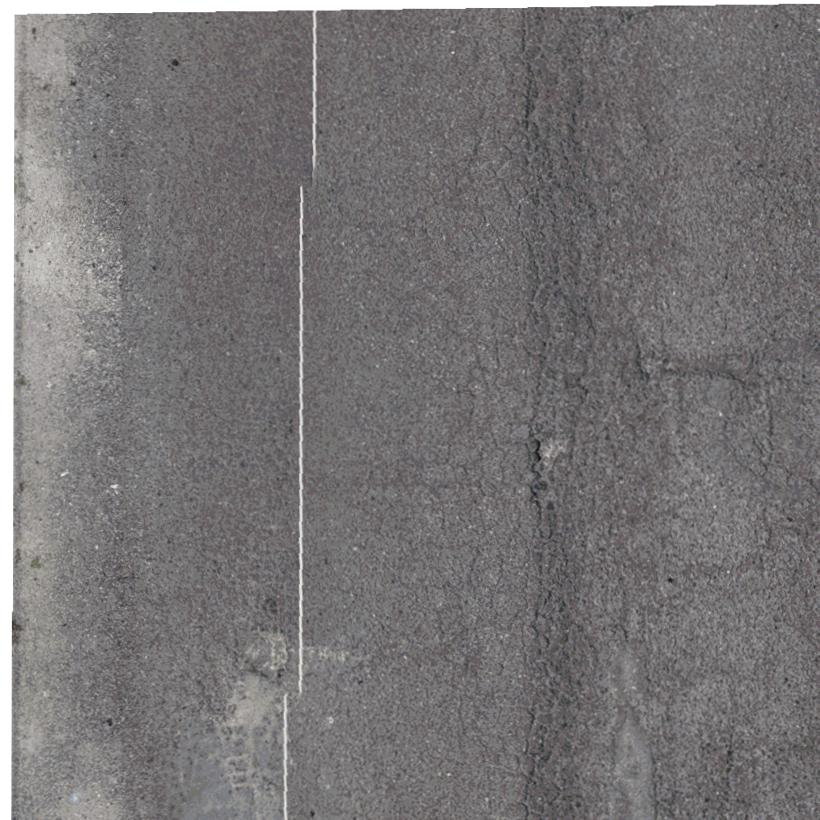GRIETA: (664, 358, 734, 380)
PIEL DE COCODRILO: (405, 5, 675, 819), (172, 329, 310, 640), (718, 353, 819, 584), (193, 635, 299, 797)
